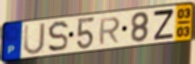5: (75, 17, 96, 51)
8: (129, 11, 150, 44)
R: (98, 16, 122, 46)
S: (47, 20, 70, 54)
U: (23, 21, 47, 56)
Z: (152, 8, 175, 41)
